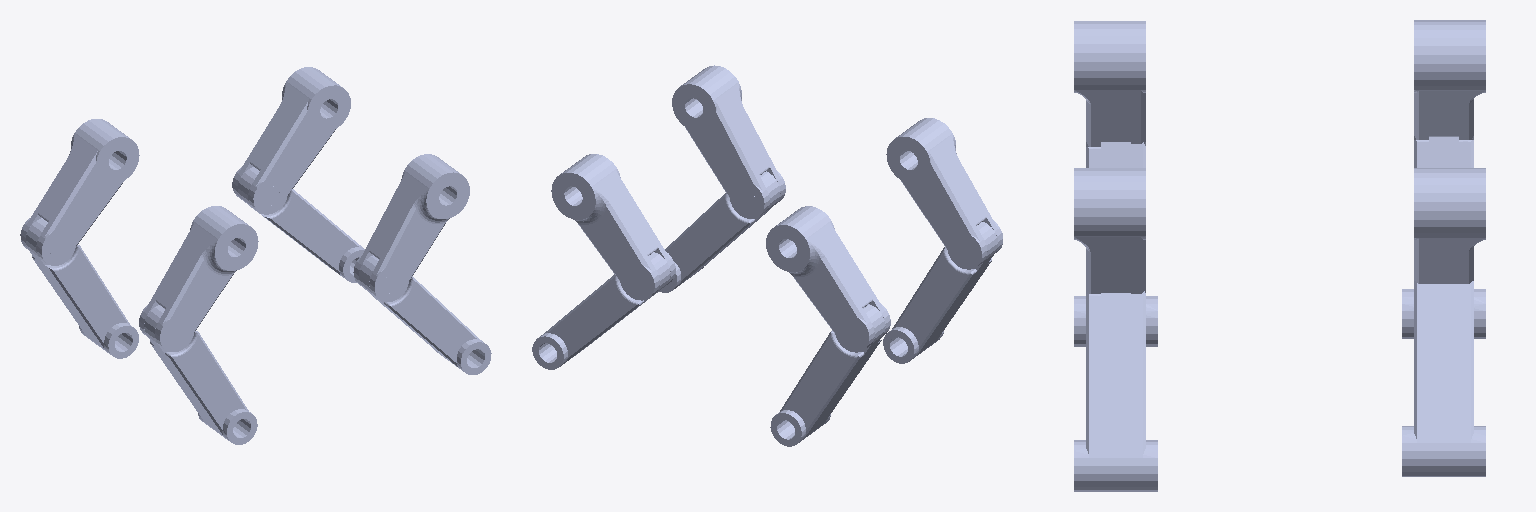
URDF robot description (Assem1_v5.SLDASM):
<?xml version="1.0" encoding="utf-8"?>
<!-- This URDF was automatically created by SolidWorks to URDF Exporter! Originally created by [author] ([email redacted]) 
     Commit Version: 1.6.0-4-g7f85cfe  Build Version: 1.6.7995.38578
     For more information, please see http://wiki.ros.org/sw_urdf_exporter -->
<robot
  name="Assem1_v5.SLDASM">
  <link
    name="base_link">
    <inertial>
      <origin
        xyz="0.504545318881019 0.0482876332833944 -0.2"
        rpy="0 0 0" />
      <mass
        value="38.4857486524171" />
      <inertia
        ixx="0.485830705764068"
        ixy="0.00363638069026405"
        ixz="1.68413316011052E-16"
        iyy="3.89642509357713"
        iyz="1.24110107667292E-17"
        izz="3.51367848534271" />
    </inertial>
    <visual>
      <origin
        xyz="0 0 0"
        rpy="0 0 0" />
      <geometry>
        <mesh
          filename="package://Assem1_v5.SLDASM/meshes/base_link.STL" />
      </geometry>
      <material
        name="">
        <color
          rgba="0.792156862745098 0.819607843137255 0.933333333333333 1" />
      </material>
    </visual>
    <collision>
      <origin
        xyz="0 0 0"
        rpy="0 0 0" />
      <geometry>
        <mesh
          filename="package://Assem1_v5.SLDASM/meshes/base_link.STL" />
      </geometry>
    </collision>
  </link>
  <link
    name="flu_link">
    <inertial>
      <origin
        xyz="0.0900093003256192 3.49096289653517E-08 0.0538957824351577"
        rpy="0 0 0" />
      <mass
        value="3.080301940055" />
      <inertia
        ixx="0.00640523076950033"
        ixy="3.54845217705874E-09"
        ixz="0.00104219453721375"
        iyy="0.0262347907620254"
        iyz="-1.24369886386061E-08"
        izz="0.0261860629044482" />
    </inertial>
    <visual>
      <origin
        xyz="0 0 0"
        rpy="0 0 0" />
      <geometry>
        <mesh
          filename="package://Assem1_v5.SLDASM/meshes/flu_link.STL" />
      </geometry>
      <material
        name="">
        <color
          rgba="0.792156862745098 0.819607843137255 0.933333333333333 1" />
      </material>
    </visual>
    <collision>
      <origin
        xyz="0 0 0"
        rpy="0 0 0" />
      <geometry>
        <mesh
          filename="package://Assem1_v5.SLDASM/meshes/flu_link.STL" />
      </geometry>
    </collision>
  </link>
  <joint
    name="flu"
    type="revolute">
    <origin
      xyz="0.21 -0.0225 0.055"
      rpy="-1.5708 0.91967 -3.1416" />
    <parent
      link="base_link" />
    <child
      link="flu_link" />
    <axis
      xyz="0 0 1" />
    <limit
      lower="-0.785"
      upper="1.57"
      effort="100"
      velocity="50" />
    <dynamics
      friction="0.5" />
  </joint>
  <link
    name="fll_link">
    <inertial>
      <origin
        xyz="0.167954851118399 1.13762647245344E-05 0.0499908752982826"
        rpy="0 0 0" />
      <mass
        value="3.19560260298567" />
      <inertia
        ixx="0.004974697540353"
        ixy="4.81123990966306E-06"
        ixz="-3.85737984618057E-06"
        iyy="0.040680269928538"
        iyz="1.30236094145653E-06"
        izz="0.0399234430060635" />
    </inertial>
    <visual>
      <origin
        xyz="0 0 0"
        rpy="0 0 0" />
      <geometry>
        <mesh
          filename="package://Assem1_v5.SLDASM/meshes/fll_link.STL" />
      </geometry>
      <material
        name="">
        <color
          rgba="0.792156862745098 0.819607843137255 0.933333333333333 1" />
      </material>
    </visual>
    <collision>
      <origin
        xyz="0 0 0"
        rpy="0 0 0" />
      <geometry>
        <mesh
          filename="package://Assem1_v5.SLDASM/meshes/fll_link.STL" />
      </geometry>
    </collision>
  </link>
  <joint
    name="fll"
    type="fixed">
    <origin
      xyz="0.25 0 0"
      rpy="0 0 1.1897" />
    <parent
      link="flu_link" />
    <child
      link="fll_link" />
    <axis
      xyz="0 0 1" />
    <limit
      lower="-0.785"
      upper="1.57"
      effort="100"
      velocity="50" />
    <dynamics
      friction="0.5" />
  </joint>
  <link
    name="fru_link">
    <inertial>
      <origin
        xyz="0.0900093114442245 3.30199865922198E-08 0.0538957868274885"
        rpy="0 0 0" />
      <mass
        value="3.08030230933662" />
      <inertia
        ixx="0.00640523132547069"
        ixy="4.52120394421607E-09"
        ixz="0.00104219357126297"
        iyy="0.0262347899237311"
        iyz="-1.20095678233937E-08"
        izz="0.026186061890834" />
    </inertial>
    <visual>
      <origin
        xyz="0 0 0"
        rpy="0 0 0" />
      <geometry>
        <mesh
          filename="package://Assem1_v5.SLDASM/meshes/fru_link.STL" />
      </geometry>
      <material
        name="">
        <color
          rgba="0.792156862745098 0.819607843137255 0.933333333333333 1" />
      </material>
    </visual>
    <collision>
      <origin
        xyz="0 0 0"
        rpy="0 0 0" />
      <geometry>
        <mesh
          filename="package://Assem1_v5.SLDASM/meshes/fru_link.STL" />
      </geometry>
    </collision>
  </link>
  <joint
    name="fru"
    type="revolute">
    <origin
      xyz="0.21 0.4225 0.055"
      rpy="1.5708 0.86734 -3.1416" />
    <parent
      link="base_link" />
    <child
      link="fru_link" />
    <axis
      xyz="0 0 -1" />
    <limit
      lower="-0.785"
      upper="1.57"
      effort="100"
      velocity="50" />
    <dynamics
      friction="0.5" />
  </joint>
  <link
    name="frl_link">
    <inertial>
      <origin
        xyz="0.167954851053173 1.13761351367495E-05 0.0499908753152978"
        rpy="0 0 0" />
      <mass
        value="3.19560260700665" />
      <inertia
        ixx="0.0049746975460824"
        ixy="4.81121672151158E-06"
        ixz="-3.85736323779943E-06"
        iyy="0.0406802699866607"
        iyz="1.3023662070307E-06"
        izz="0.0399234430545993" />
    </inertial>
    <visual>
      <origin
        xyz="0 0 0"
        rpy="0 0 0" />
      <geometry>
        <mesh
          filename="package://Assem1_v5.SLDASM/meshes/frl_link.STL" />
      </geometry>
      <material
        name="">
        <color
          rgba="0.792156862745098 0.819607843137255 0.933333333333333 1" />
      </material>
    </visual>
    <collision>
      <origin
        xyz="0 0 0"
        rpy="0 0 0" />
      <geometry>
        <mesh
          filename="package://Assem1_v5.SLDASM/meshes/frl_link.STL" />
      </geometry>
    </collision>
  </link>
  <joint
    name="frl"
    type="fixed">
    <origin
      xyz="0.25 0 0"
      rpy="0 0 -1.2425" />
    <parent
      link="fru_link" />
    <child
      link="frl_link" />
    <axis
      xyz="0 0 -1" />
    <limit
      lower="-0.785"
      upper="1.57"
      effort="100"
      velocity="50" />
    <dynamics
      friction="0.5" />
  </joint>
  <link
    name="blu_link">
    <inertial>
      <origin
        xyz="0.0900093072251444 3.33825624920792E-08 0.0538957811655752"
        rpy="0 0 0" />
      <mass
        value="3.08030207068463" />
      <inertia
        ixx="0.00640523016347388"
        ixy="5.2978510114033E-09"
        ixz="0.00104219351008228"
        iyy="0.0262347889034182"
        iyz="-1.26756763824381E-08"
        izz="0.0261860617295707" />
    </inertial>
    <visual>
      <origin
        xyz="0 0 0"
        rpy="0 0 0" />
      <geometry>
        <mesh
          filename="package://Assem1_v5.SLDASM/meshes/blu_link.STL" />
      </geometry>
      <material
        name="">
        <color
          rgba="0.792156862745098 0.819607843137255 0.933333333333333 1" />
      </material>
    </visual>
    <collision>
      <origin
        xyz="0 0 0"
        rpy="0 0 0" />
      <geometry>
        <mesh
          filename="package://Assem1_v5.SLDASM/meshes/blu_link.STL" />
      </geometry>
    </collision>
  </link>
  <joint
    name="blu"
    type="revolute">
    <origin
      xyz="0.79 -0.0225 0.055"
      rpy="-1.5708 0.96081 -3.1416" />
    <parent
      link="base_link" />
    <child
      link="blu_link" />
    <axis
      xyz="0 0 1" />
    <limit
      lower="-0.785"
      upper="1.57"
      effort="100"
      velocity="50" />
    <dynamics
      friction="0.5" />
  </joint>
  <link
    name="bll_link">
    <inertial>
      <origin
        xyz="0.167954851097849 1.13762130247164E-05 0.0499908753163053"
        rpy="0 0 0" />
      <mass
        value="3.19560260450598" />
      <inertia
        ixx="0.00497469754228743"
        ixy="4.81123105550802E-06"
        ixz="-3.85736944597038E-06"
        iyy="0.0406802699476036"
        iyz="1.30236321230407E-06"
        izz="0.0399234430232058" />
    </inertial>
    <visual>
      <origin
        xyz="0 0 0"
        rpy="0 0 0" />
      <geometry>
        <mesh
          filename="package://Assem1_v5.SLDASM/meshes/bll_link.STL" />
      </geometry>
      <material
        name="">
        <color
          rgba="0.792156862745098 0.819607843137255 0.933333333333333 1" />
      </material>
    </visual>
    <collision>
      <origin
        xyz="0 0 0"
        rpy="0 0 0" />
      <geometry>
        <mesh
          filename="package://Assem1_v5.SLDASM/meshes/bll_link.STL" />
      </geometry>
    </collision>
  </link>
  <joint
    name="bll"
    type="fixed">
    <origin
      xyz="0.25 0 0"
      rpy="0 0 1.3519" />
    <parent
      link="blu_link" />
    <child
      link="bll_link" />
    <axis
      xyz="0 0 1" />
    <limit
      lower="-0.785"
      upper="1.57"
      effort="100"
      velocity="50" />
    <dynamics
      friction="0.5" />
  </joint>
  <link
    name="bru_link">
    <inertial>
      <origin
        xyz="0.0900093019852923 3.47892702423636E-08 0.0538957862643708"
        rpy="0 0 0" />
      <mass
        value="3.08030209475976" />
      <inertia
        ixx="0.00640523156130663"
        ixy="3.34593044568586E-09"
        ixz="0.00104219492006355"
        iyy="0.0262347920422271"
        iyz="-1.19766617592354E-08"
        izz="0.0261860635277769" />
    </inertial>
    <visual>
      <origin
        xyz="0 0 0"
        rpy="0 0 0" />
      <geometry>
        <mesh
          filename="package://Assem1_v5.SLDASM/meshes/bru_link.STL" />
      </geometry>
      <material
        name="">
        <color
          rgba="0.792156862745098 0.819607843137255 0.933333333333333 1" />
      </material>
    </visual>
    <collision>
      <origin
        xyz="0 0 0"
        rpy="0 0 0" />
      <geometry>
        <mesh
          filename="package://Assem1_v5.SLDASM/meshes/bru_link.STL" />
      </geometry>
    </collision>
  </link>
  <joint
    name="bru"
    type="revolute">
    <origin
      xyz="0.79 0.4225 0.055"
      rpy="1.5708 0.87287 -3.1416" />
    <parent
      link="base_link" />
    <child
      link="bru_link" />
    <axis
      xyz="0 0 -1" />
    <limit
      lower="-0.785"
      upper="1.57"
      effort="100"
      velocity="50" />
    <dynamics
      friction="0.5" />
  </joint>
  <link
    name="brl_link">
    <inertial>
      <origin
        xyz="0.167954851095066 1.13762015730989E-05 0.0499908753195193"
        rpy="0 0 0" />
      <mass
        value="3.19560260477909" />
      <inertia
        ixx="0.00497469754263556"
        ixy="4.81122907751387E-06"
        ixz="-3.85736735217959E-06"
        iyy="0.0406802699514513"
        iyz="1.30236375880465E-06"
        izz="0.0399234430265013" />
    </inertial>
    <visual>
      <origin
        xyz="0 0 0"
        rpy="0 0 0" />
      <geometry>
        <mesh
          filename="package://Assem1_v5.SLDASM/meshes/brl_link.STL" />
      </geometry>
      <material
        name="">
        <color
          rgba="0.792156862745098 0.819607843137255 0.933333333333333 1" />
      </material>
    </visual>
    <collision>
      <origin
        xyz="0 0 0"
        rpy="0 0 0" />
      <geometry>
        <mesh
          filename="package://Assem1_v5.SLDASM/meshes/brl_link.STL" />
      </geometry>
    </collision>
  </link>
  <joint
    name="brl"
    type="fixed">
    <origin
      xyz="0.25 0 0"
      rpy="0 0 -1.4826" />
    <parent
      link="bru_link" />
    <child
      link="brl_link" />
    <axis
      xyz="0 0 -1" />
    <limit
      lower="-0.785"
      upper="1.57"
      effort="100"
      velocity="50" />
    <dynamics
      friction="0.5" />
  </joint>
</robot>

--- What the picture shows (computed from the rendered views, not written in the file) ---
Views: 3 orthographic renders of the robot side by side, from view 1: azimuth 30°, elevation 25°; view 2: azimuth 150°, elevation 25°; view 3: azimuth 270°, elevation 25°.
Robot: Assem1_v5.SLDASM — 9 links, 8 joints (4 revolute, 4 fixed); root link base_link; default pose: every joint at zero.
Links seen in each view (by area): view 1: bru_link, fru_link, flu_link, blu_link, frl_link, fll_link, bll_link, brl_link; view 2: blu_link, flu_link, fru_link, bru_link, frl_link, fll_link, brl_link, bll_link; view 3: bll_link, brl_link, blu_link, flu_link, fru_link, bru_link, frl_link, fll_link.
Link boxes in pixels (x1=…): bru_link: x1=232, y1=67, x2=350, y2=214; fru_link: x1=20, y1=119, x2=139, y2=265; flu_link: x1=139, y1=206, x2=258, y2=351; blu_link: x1=353, y1=154, x2=469, y2=301; frl_link: x1=26, y1=218, x2=138, y2=358; fll_link: x1=144, y1=305, x2=257, y2=444; bll_link: x1=359, y1=255, x2=491, y2=374; brl_link: x1=238, y1=167, x2=364, y2=282; blu_link: x1=672, y1=65, x2=785, y2=218; flu_link: x1=886, y1=118, x2=1002, y2=269; fru_link: x1=766, y1=206, x2=890, y2=352; bru_link: x1=551, y1=154, x2=675, y2=300; frl_link: x1=770, y1=304, x2=885, y2=446; fll_link: x1=883, y1=222, x2=997, y2=363; brl_link: x1=532, y1=252, x2=670, y2=369; bll_link: x1=659, y1=171, x2=780, y2=292; bll_link: x1=1074, y1=291, x2=1157, y2=491; brl_link: x1=1402, y1=281, x2=1485, y2=476; blu_link: x1=1074, y1=168, x2=1145, y2=293; flu_link: x1=1074, y1=21, x2=1145, y2=146; fru_link: x1=1414, y1=20, x2=1485, y2=139; bru_link: x1=1414, y1=168, x2=1485, y2=283; frl_link: x1=1402, y1=137, x2=1485, y2=338; fll_link: x1=1074, y1=142, x2=1157, y2=346.
Bounding box of the posed robot: 0.9078 × 0.685 × 0.5802 m (x, y, z).
8 mesh visuals loaded from 9 distinct referenced files (8 binary STL); not drawn: 1 (reference not matched to a file when rendering).